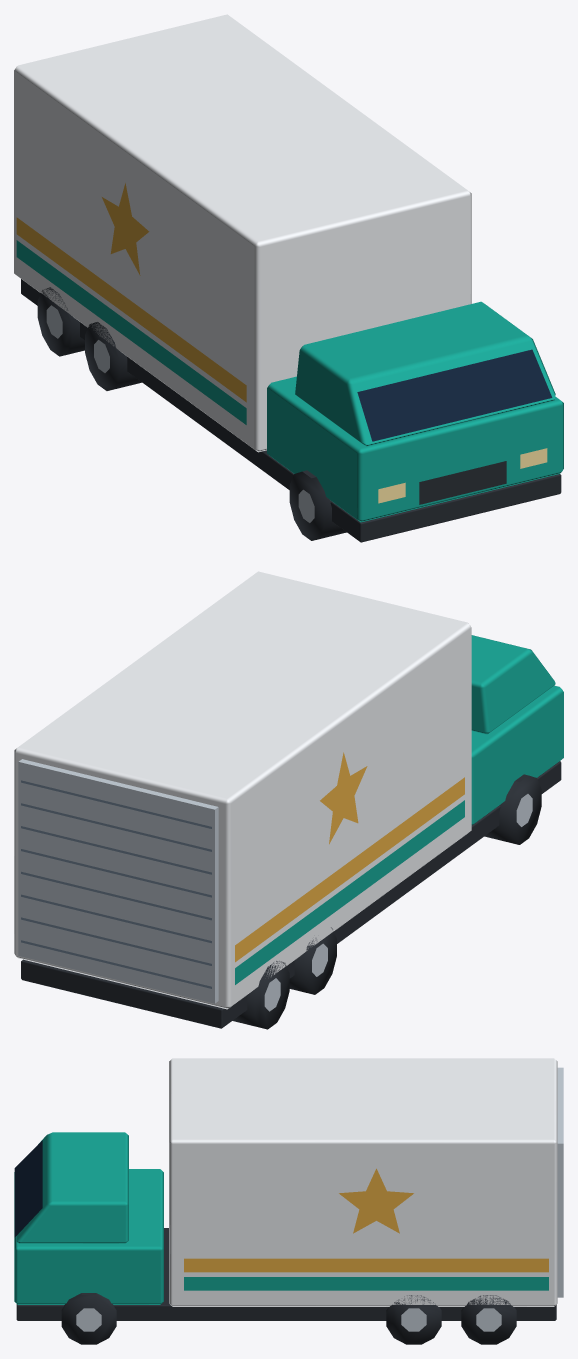
Rendered from CM_Prop_DeliveryTruck.fbx.
The picture shows the model from 3 angles, top to bottom: view 1: azimuth 30°, elevation 25°; view 2: azimuth 150°, elevation 25°; view 3: azimuth 270°, elevation 25°; orthographic projection. The views are drawn at different scales.
Visible parts, largest first — view 1: Body; view 2: Body, RearDoor; view 3: Body, RearDoor.
Part boxes in pixels (x1,y1,x2,y2): Body: (14,14,563,542); Body: (14,571,563,1029); RearDoor: (18,759,218,1003); Body: (14,1058,557,1344); RearDoor: (557,1067,563,1297).
Bounding box in the file's own units: 8 × 22 × 9.
Materials: 1 (1 with a texture image).
